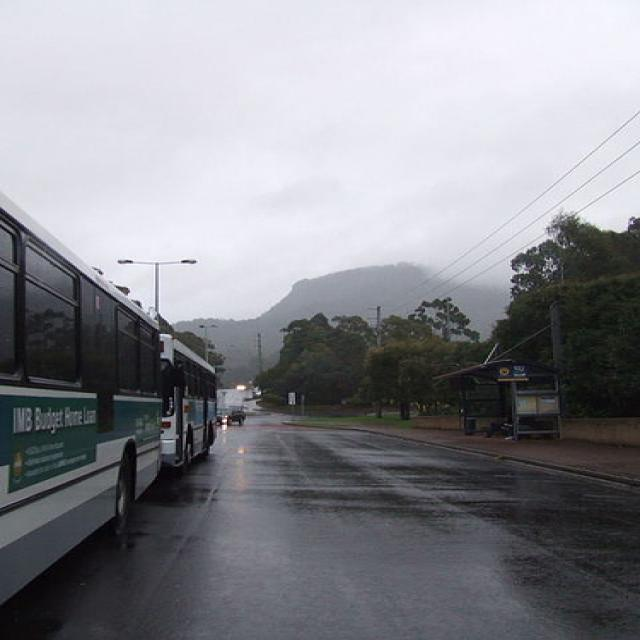Vehicle: (0, 191, 174, 603), (172, 333, 225, 470), (217, 410, 246, 426)
